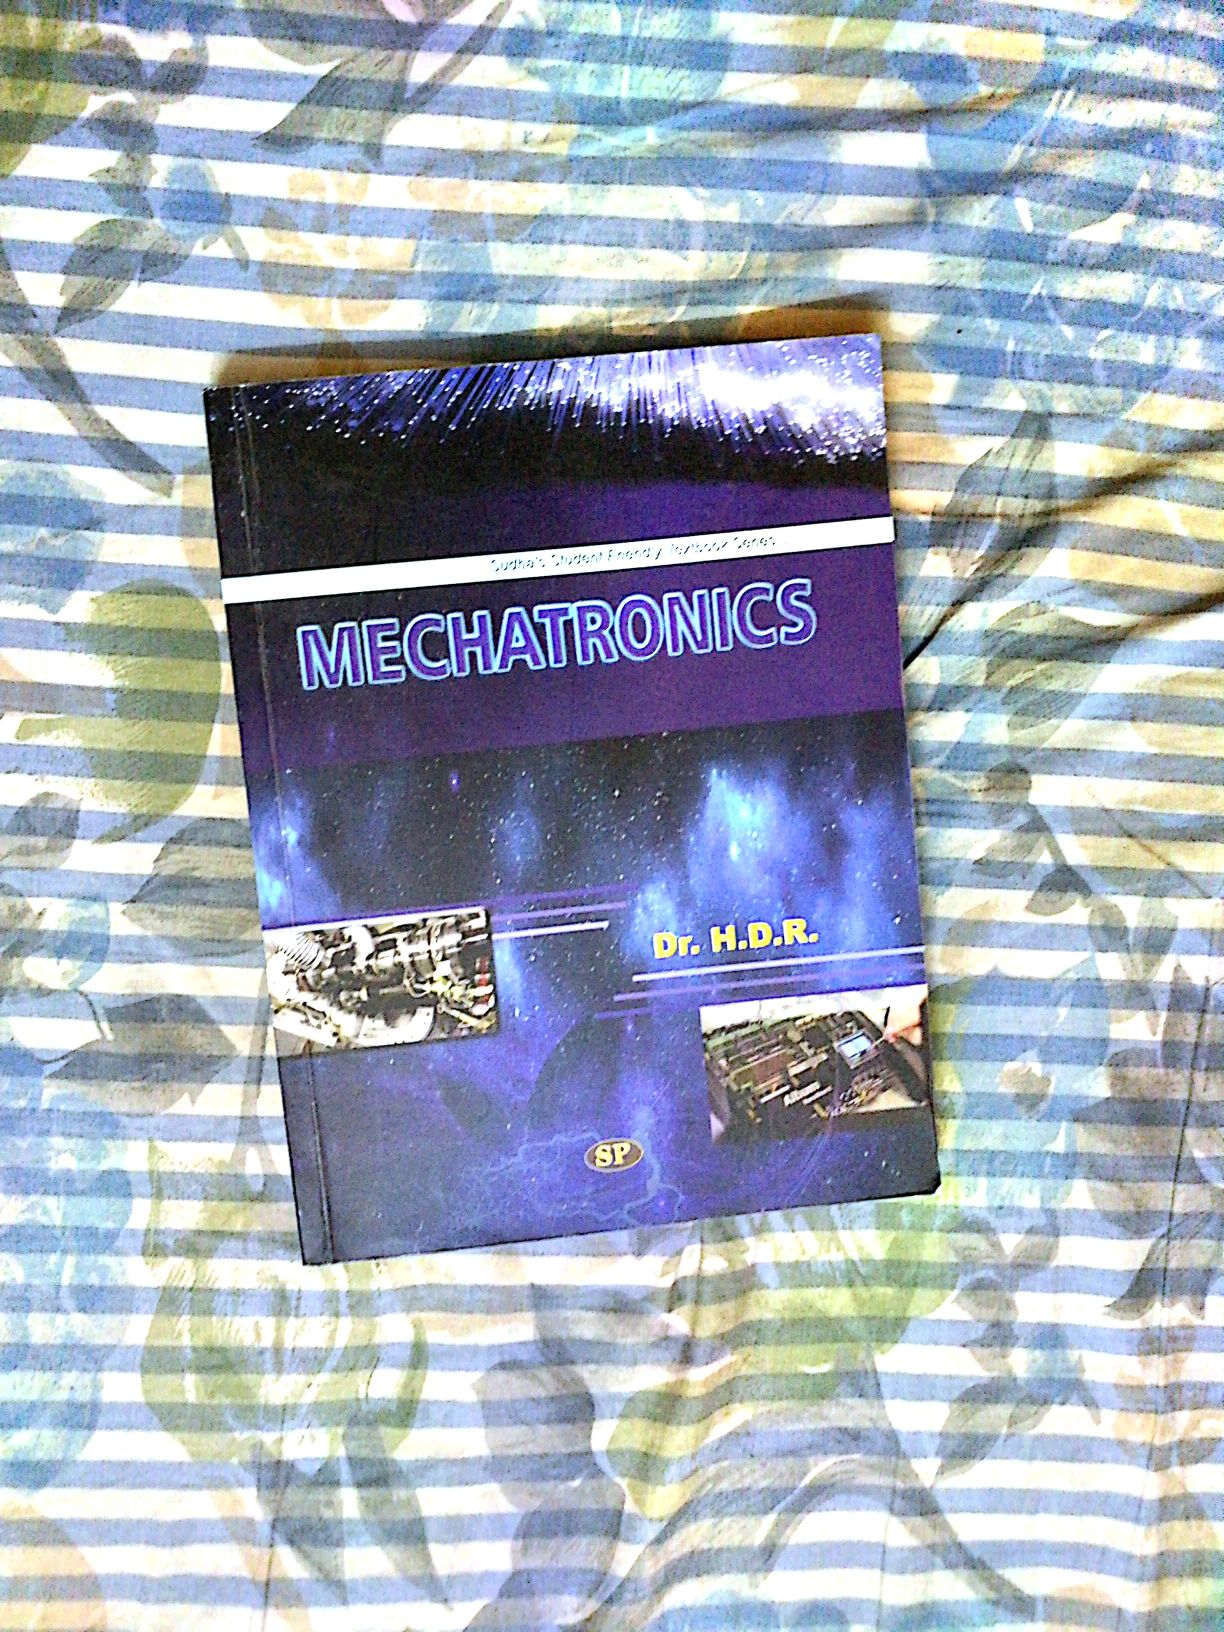mechatronics: (177, 334, 984, 1263)
